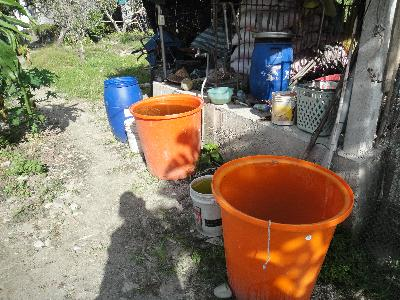bowl: (208, 86, 235, 105)
bucket: (211, 154, 355, 300), (130, 93, 205, 181), (250, 38, 296, 104), (102, 75, 143, 143), (189, 173, 227, 238), (270, 88, 297, 127)
plate: (252, 27, 292, 40)
